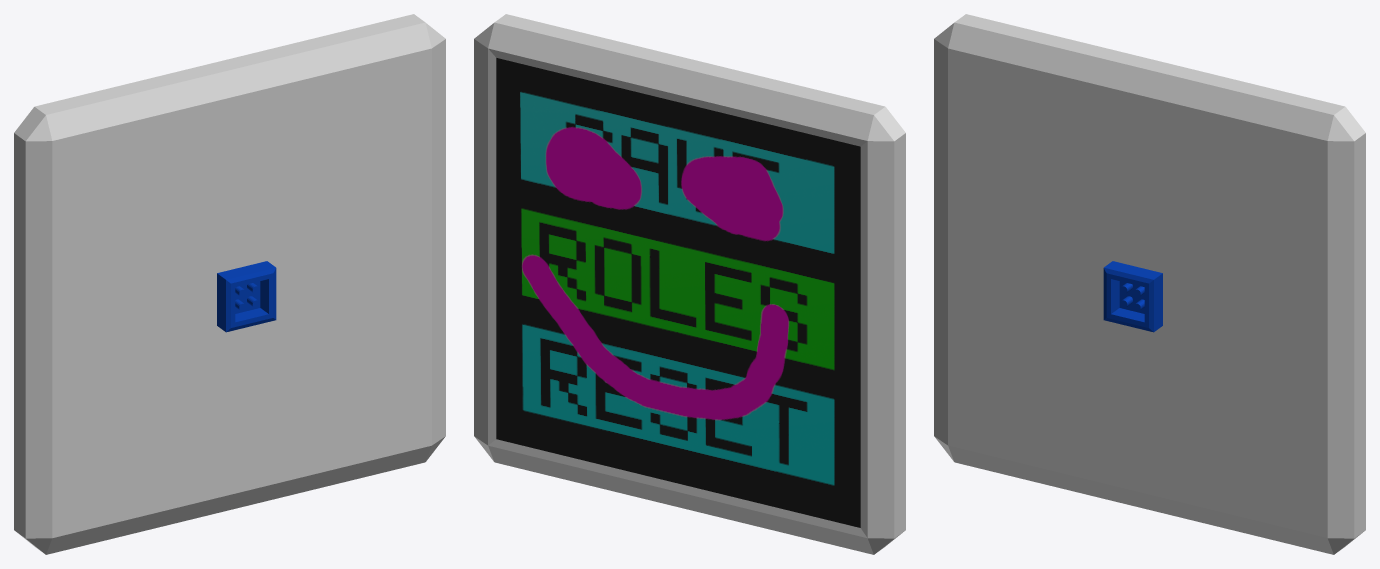
Rendered from Volume.gltf.
The picture shows the model from 3 angles, left to right: view 1: azimuth 30°, elevation 25°; view 2: azimuth 150°, elevation 25°; view 3: azimuth 330°, elevation 25°; orthographic projection.
Parts seen in each view (by area): view 1: base; view 2: base; view 3: base.
Boxes of the visible parts, left/top/right/bottom form: base: left=14, top=14, right=445, bottom=554; base: left=474, top=14, right=905, bottom=554; base: left=934, top=14, right=1365, bottom=554.
Size of the model in its own units: 0.5 by 0.5 by 0.0706.
3 materials, 1 textured.
